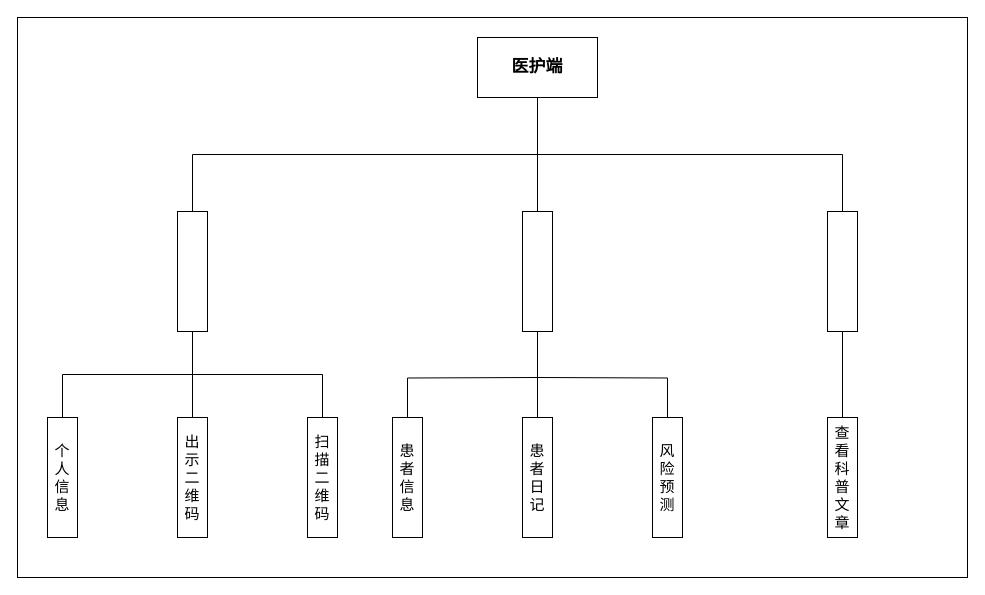
The diagram is 985 pixels wide and 595 high, and some of its shapes have lost their labels. The centre of each missing label's shape, as x and y in pixels:
个人中心: point (192, 271)
常见问题: point (842, 271)
置管患者: point (537, 271)
